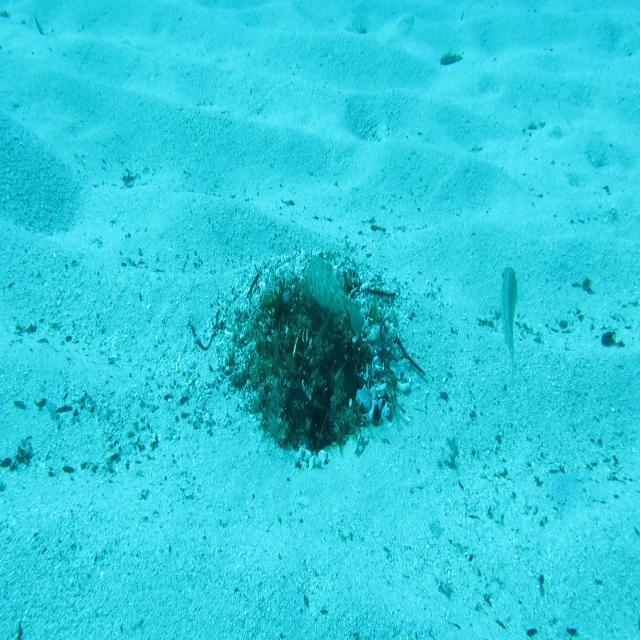INSF: (303, 249, 365, 343)
core_nest: (286, 296, 338, 336)
female: (497, 265, 521, 392)
nest: (207, 242, 416, 481)
vegetation: (439, 44, 464, 71)
